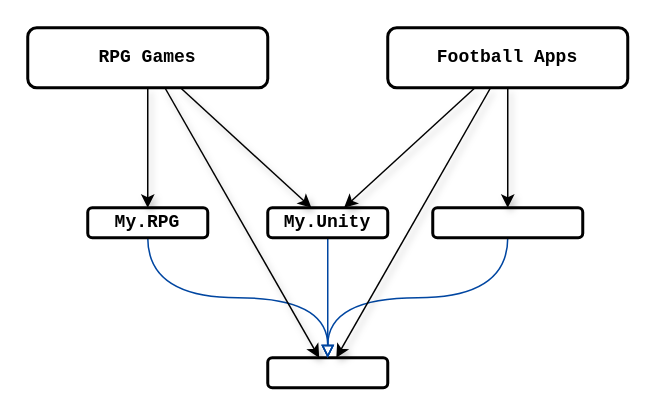
The diagram is 654 pixels wide and 414 high, and some of its shapes have lost their labels. Each missing label, with the centre of its shape:
My.Core: (327,372)
My.Football: (507,222)
